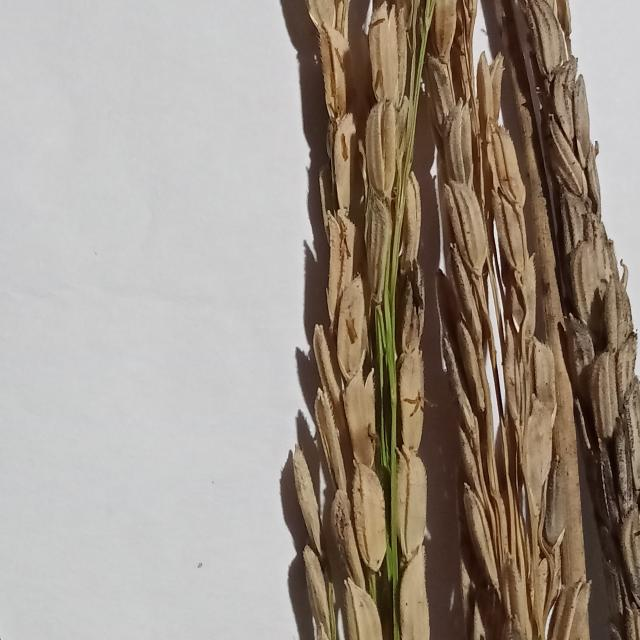Neck_Blast: (285, 0, 640, 638)
